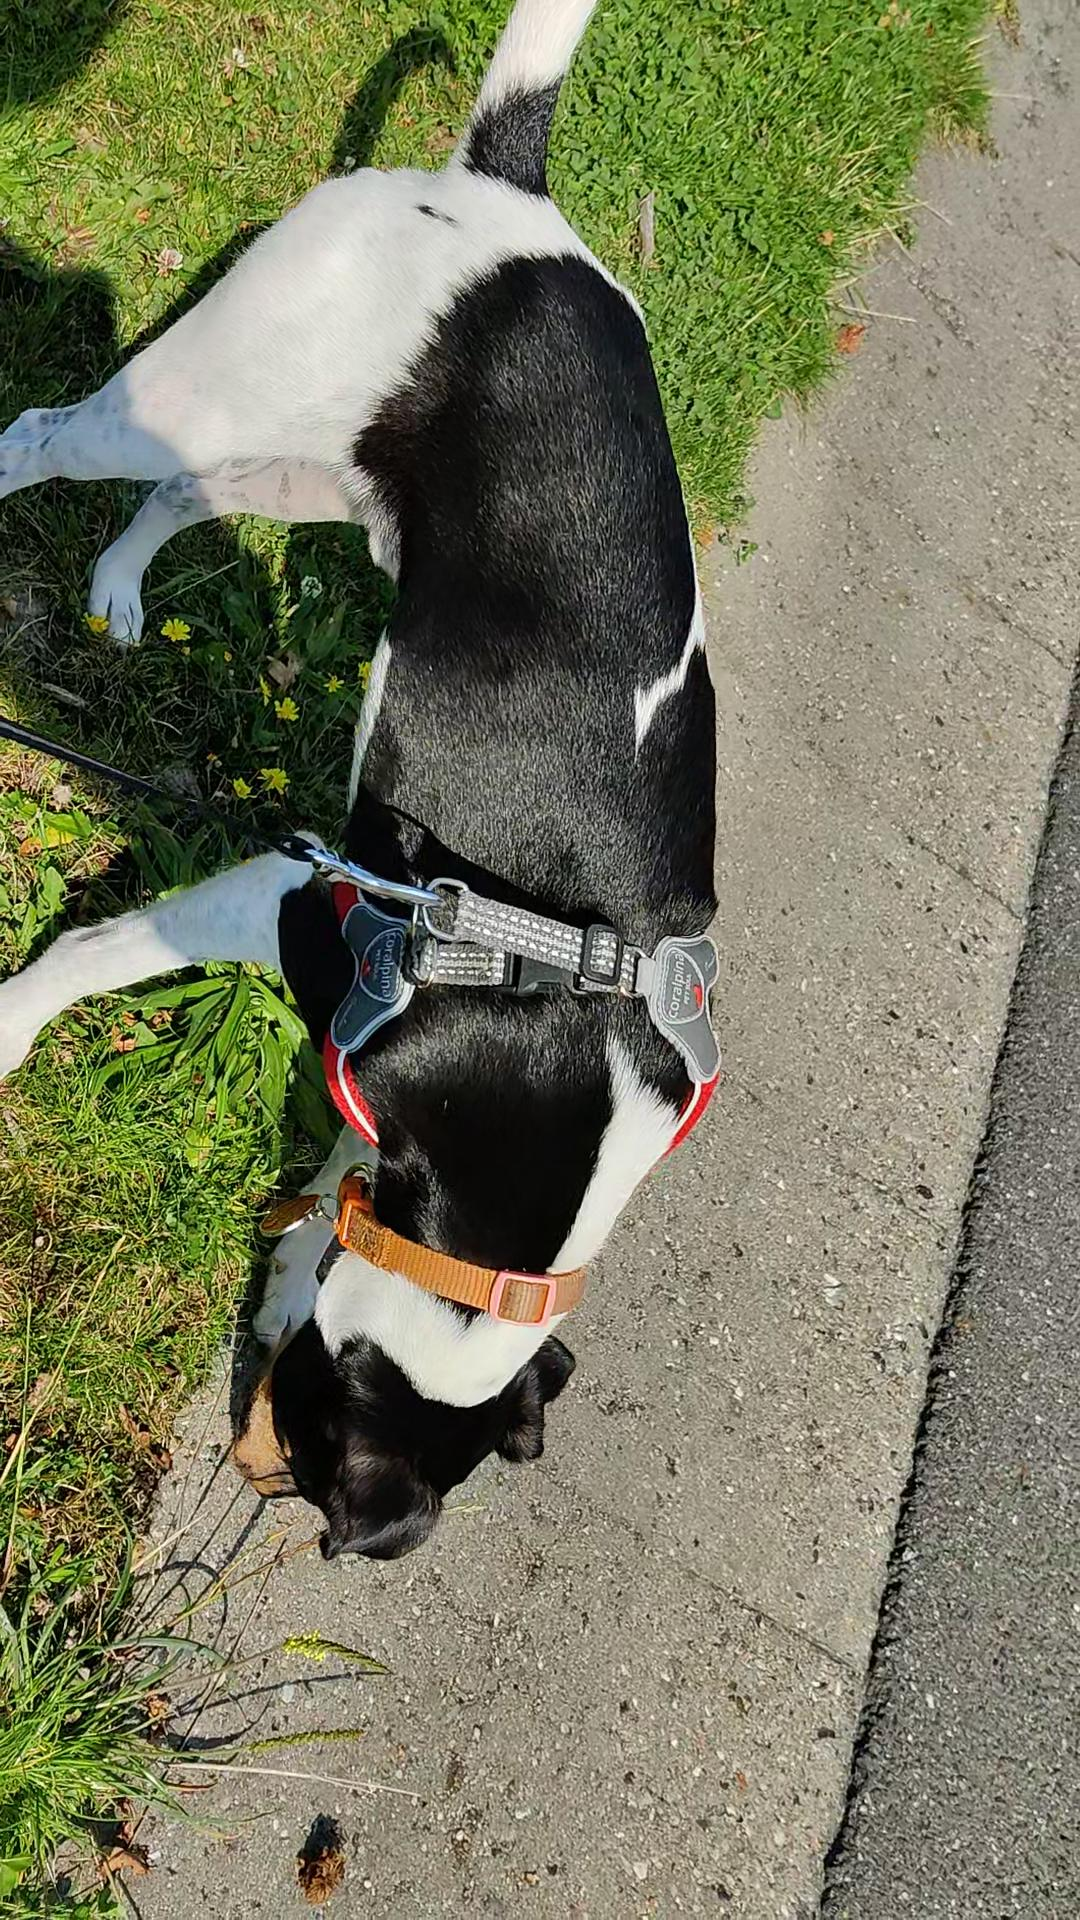Dog: (0, 0, 735, 1565)
